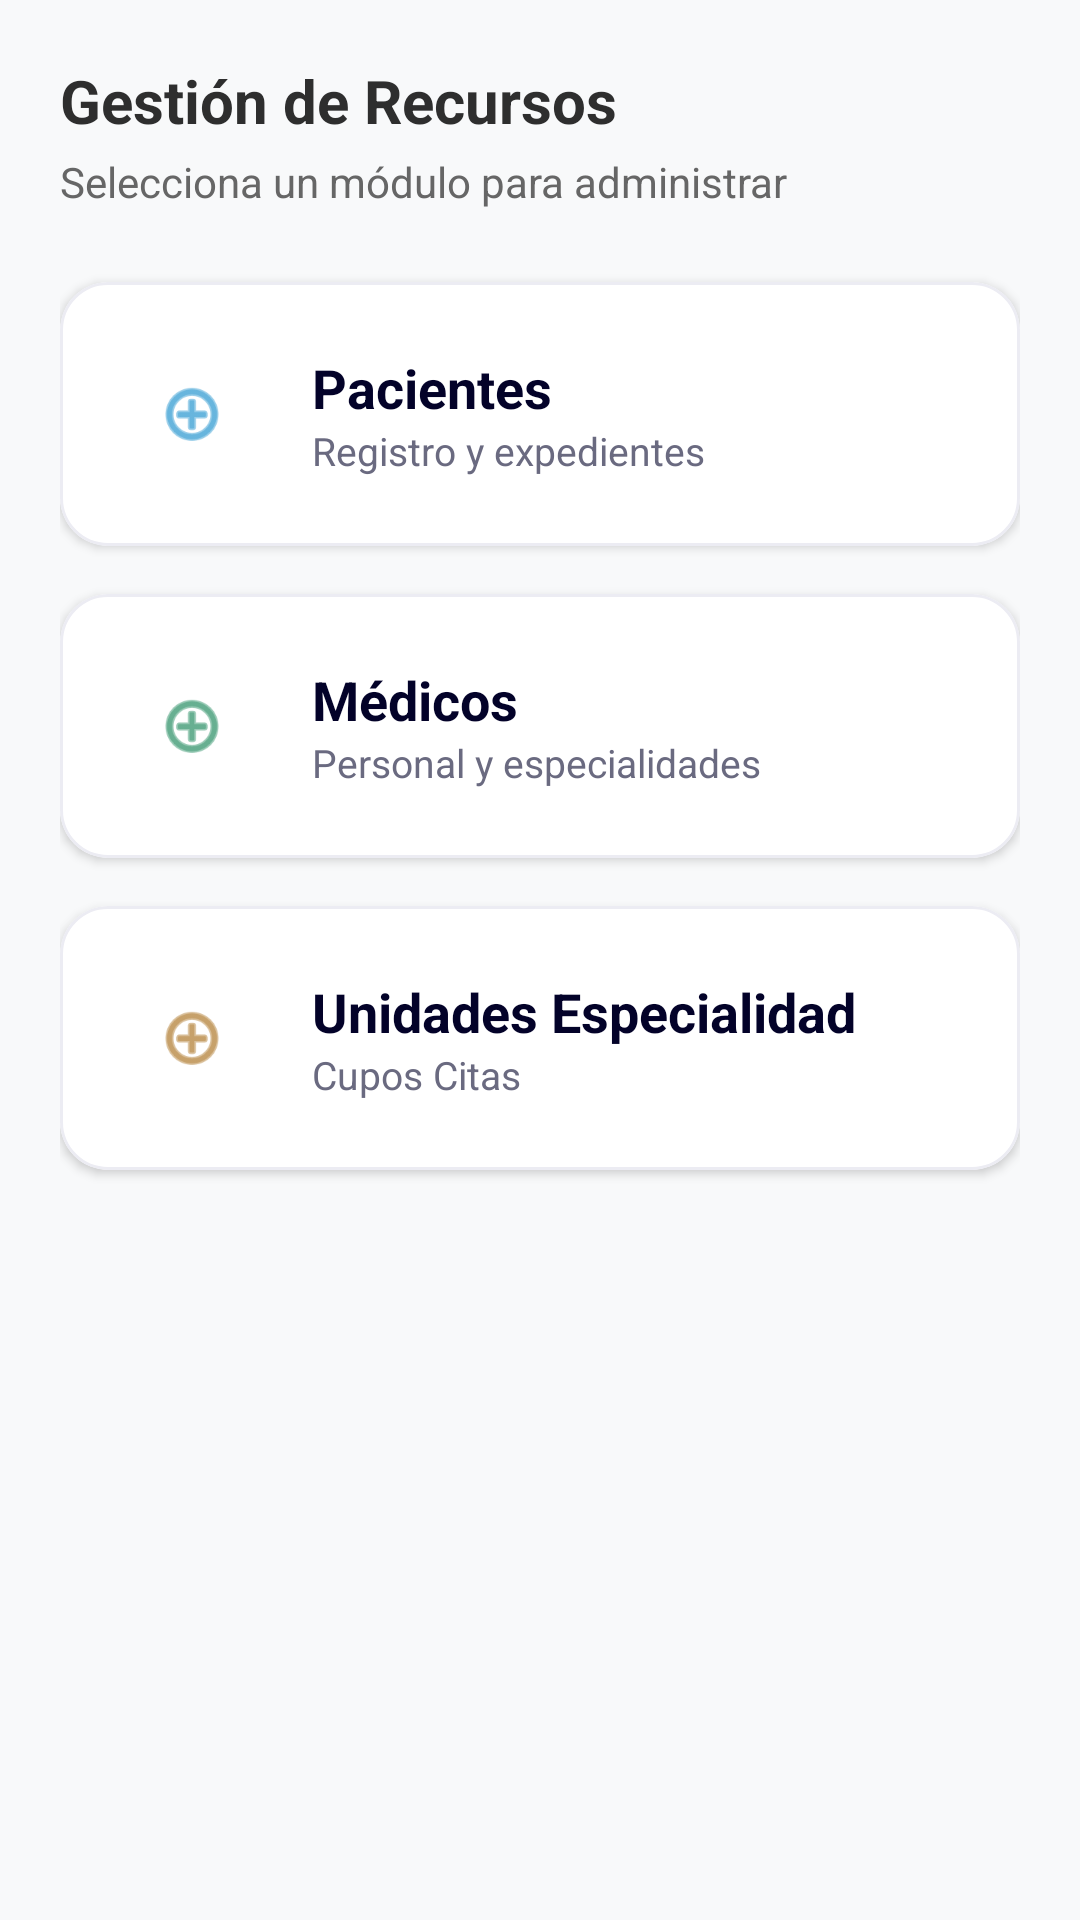

Named icons in this screenshot (1080*1920) and their centers, (x,y):
add: (192,414), (192,726), (192,1038)
